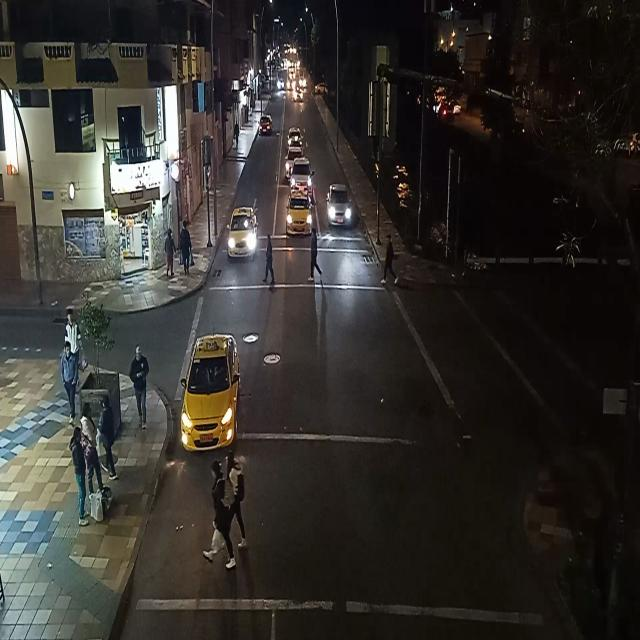CMT: (290, 160, 314, 195)
SED: (182, 338, 240, 452), (227, 208, 254, 256), (287, 197, 311, 234), (329, 187, 351, 227)
